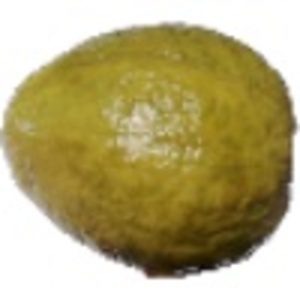goiaba: (6, 19, 291, 272)
